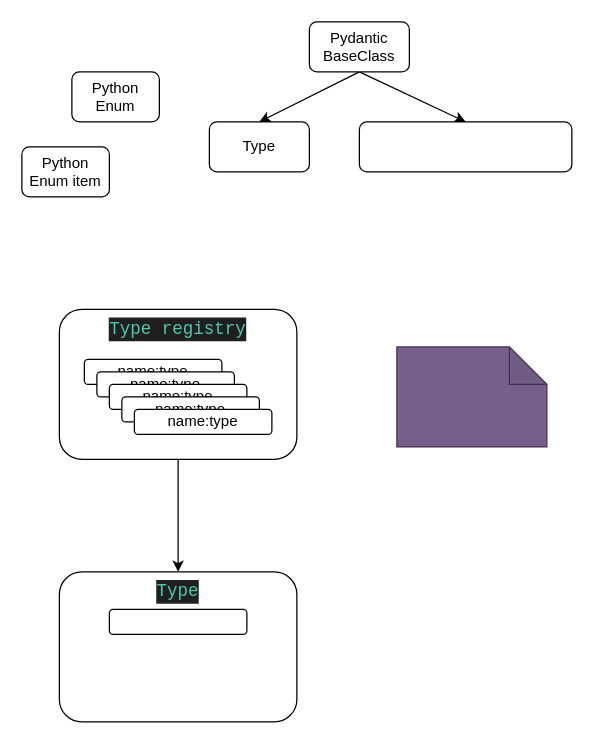
Image size: 594x744. Some labels were removed from this diagram. Here are the shapes that lost their labels. From the top down, the centre of each, then its label:
At point 465,146: "StandardCTypesEnum".
At point 471,396: "Contains all the available types".
At point 177,621: "base_size".
